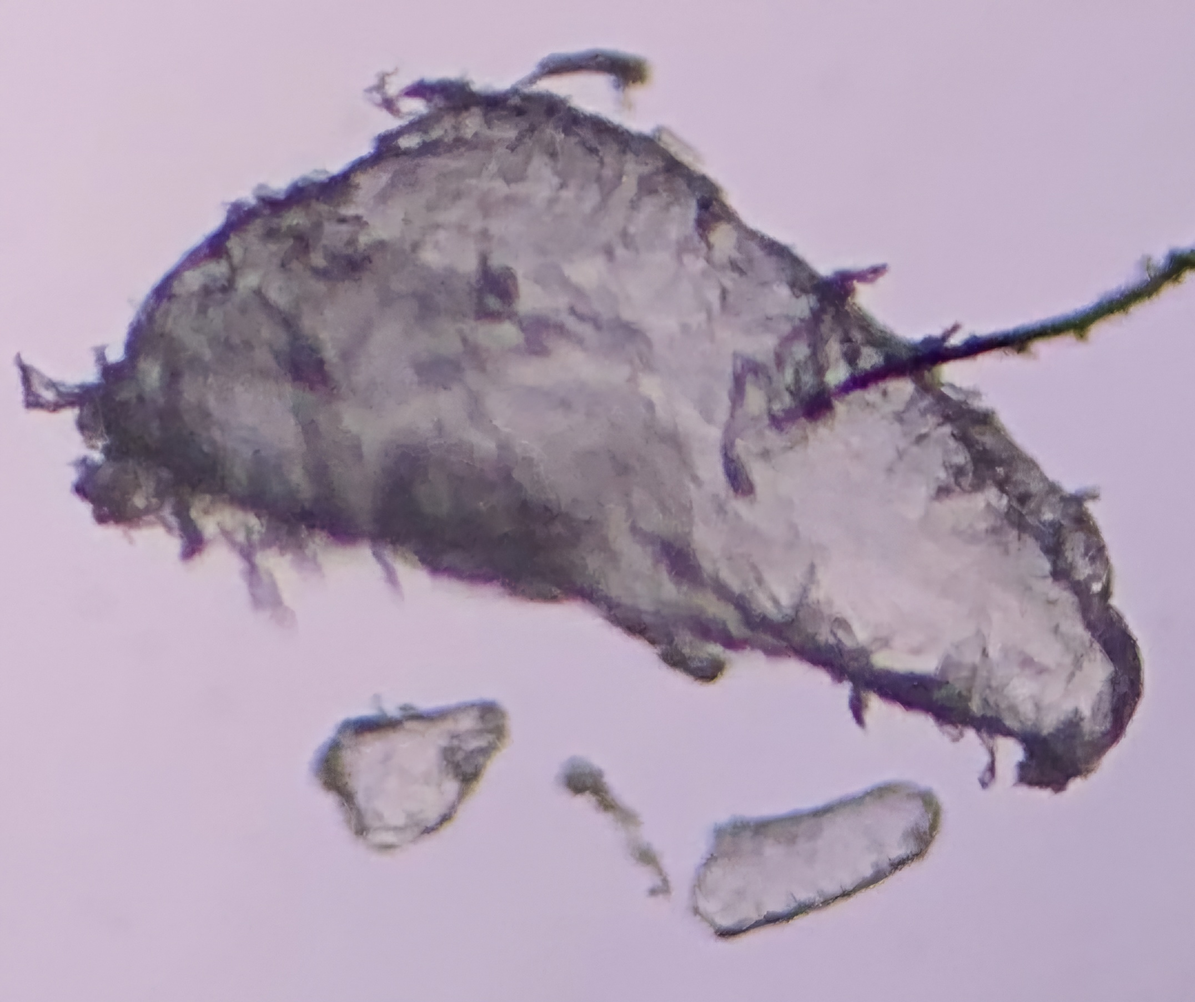microplastic: (7, 42, 1172, 805), (687, 774, 948, 944), (312, 690, 515, 859), (558, 753, 669, 905)
